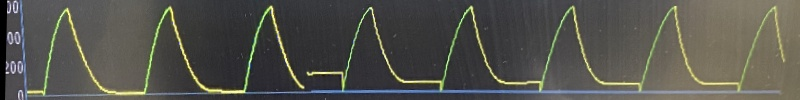leakage: (343, 0, 765, 100)
normal_volume: (33, 0, 306, 100)
